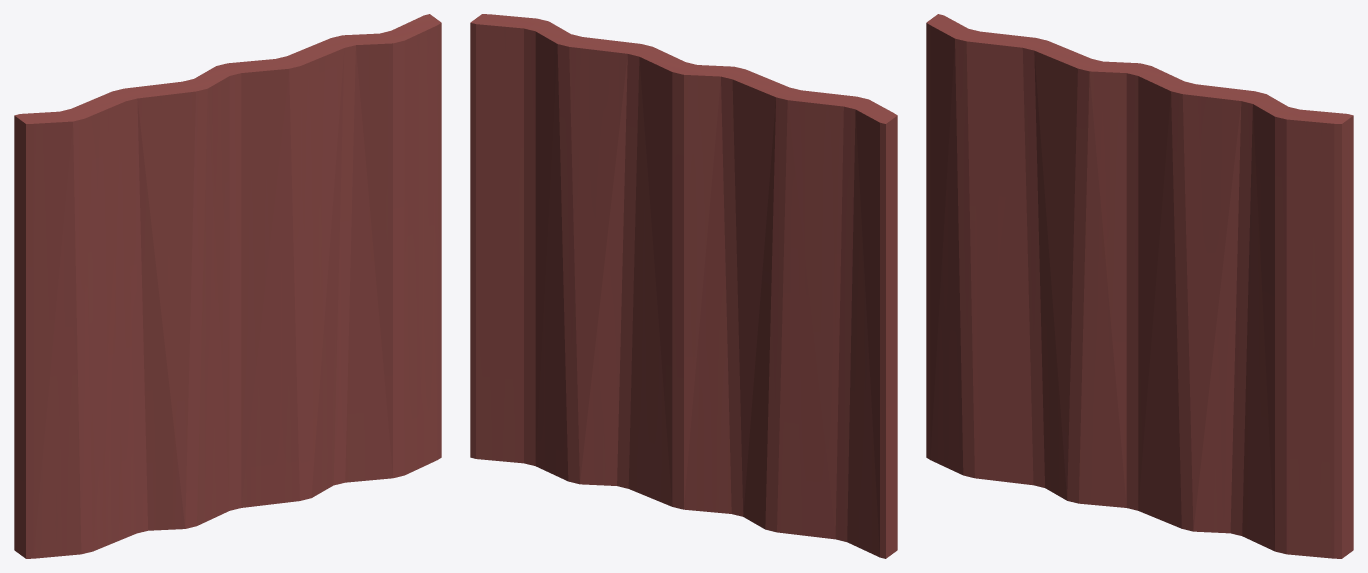
File: wall_metal_1.dae
The picture shows the model from 3 angles, left to right: view 1: azimuth 30°, elevation 25°; view 2: azimuth 150°, elevation 25°; view 3: azimuth 330°, elevation 25°; orthographic projection.
Visible parts, largest first — view 1: wall_metal_1; view 2: wall_metal_1; view 3: wall_metal_1.
Boxes of the visible parts, x1,y1,x2,y2 form: wall_metal_1: [14, 14, 441, 558]; wall_metal_1: [470, 14, 897, 558]; wall_metal_1: [926, 14, 1353, 558].
Size of the model in its own units: 2 by 0.1751 by 2.
